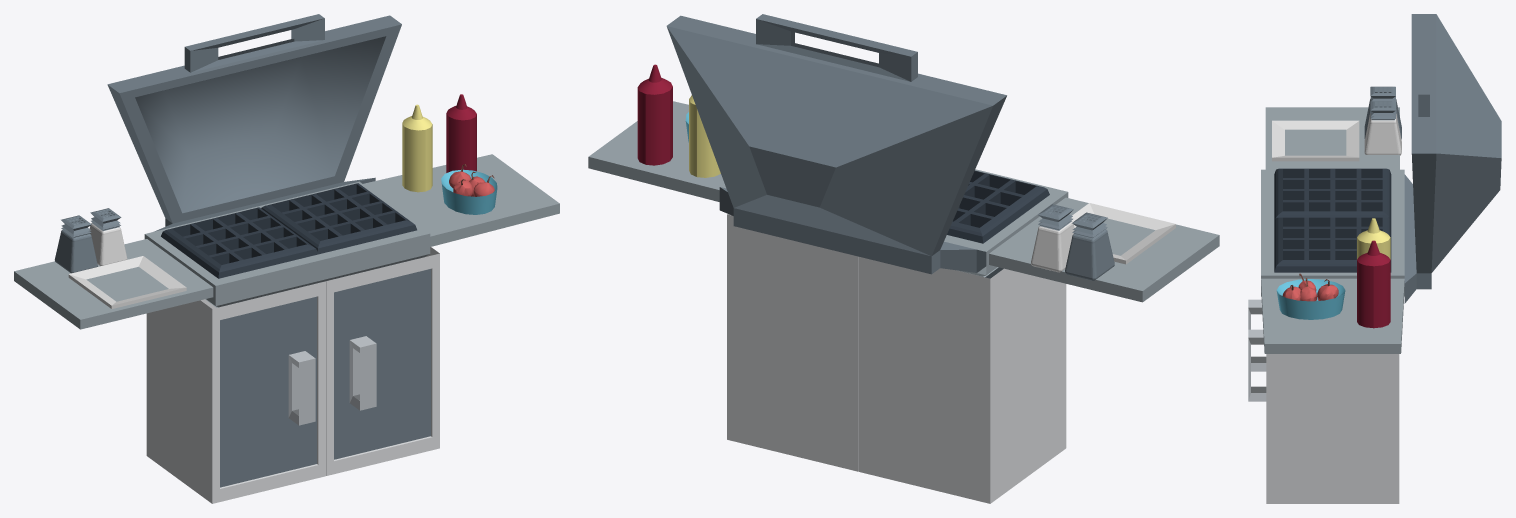
The model's file is bigger_bbq.glb.
3 renders of one model, left to right at view 1: azimuth 30°, elevation 25°; view 2: azimuth 150°, elevation 25°; view 3: azimuth 270°, elevation 25°, orthographic. The views are drawn at different scales.
Visible parts, largest first — view 1: BBQ, BBQ_Lid, Stovetop, Grill, Grill.001, Shakers, Mustard, Plate, Ketchup, Apple_Bowl, Apples; view 2: BBQ, BBQ_Lid, Stovetop, Shakers, Grill, Ketchup, Plate, Mustard; view 3: BBQ, BBQ_Lid, Stovetop, Grill, Grill.001, Ketchup, Shakers, Plate, Apple_Bowl, Apples, Mustard.
Boxes of the visible parts, bbox=[...] form: BBQ: bbox=[146, 247, 439, 503]; BBQ_Lid: bbox=[107, 14, 401, 231]; Stovetop: bbox=[14, 154, 559, 329]; Grill: bbox=[161, 207, 318, 278]; Grill.001: bbox=[261, 183, 416, 254]; Shakers: bbox=[54, 208, 127, 273]; Mustard: bbox=[402, 104, 432, 192]; Plate: bbox=[68, 256, 186, 308]; Ketchup: bbox=[446, 94, 476, 172]; Apple_Bowl: bbox=[441, 169, 497, 214]; Apples: bbox=[449, 164, 494, 196]; BBQ: bbox=[727, 214, 1066, 503]; BBQ_Lid: bbox=[666, 14, 1006, 274]; Stovetop: bbox=[588, 101, 1219, 302]; Shakers: bbox=[1031, 204, 1114, 280]; Grill: bbox=[947, 170, 1049, 243]; Ketchup: bbox=[637, 64, 672, 165]; Plate: bbox=[1071, 203, 1175, 264]; Mustard: bbox=[689, 95, 720, 177]; BBQ: bbox=[1248, 299, 1399, 503]; BBQ_Lid: bbox=[1404, 14, 1501, 303]; Stovetop: bbox=[1261, 107, 1404, 353]; Grill: bbox=[1274, 168, 1391, 222]; Grill.001: bbox=[1274, 217, 1391, 272]; Ketchup: bbox=[1357, 240, 1390, 328]; Shakers: bbox=[1364, 86, 1401, 155]; Plate: bbox=[1272, 120, 1359, 161]; Apple_Bowl: bbox=[1276, 279, 1345, 319]; Apples: bbox=[1282, 273, 1338, 301]; Mustard: bbox=[1357, 218, 1390, 259].
Size of the model in its own units: 7.67 by 5.89 by 3.47.
